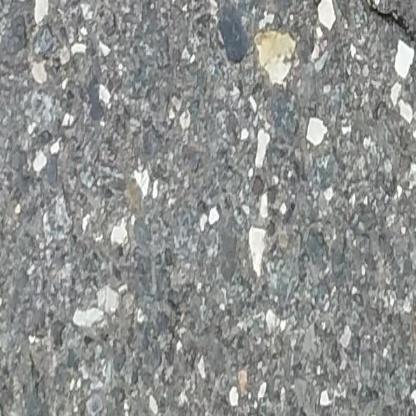Cracks: (300, 0, 416, 55)
